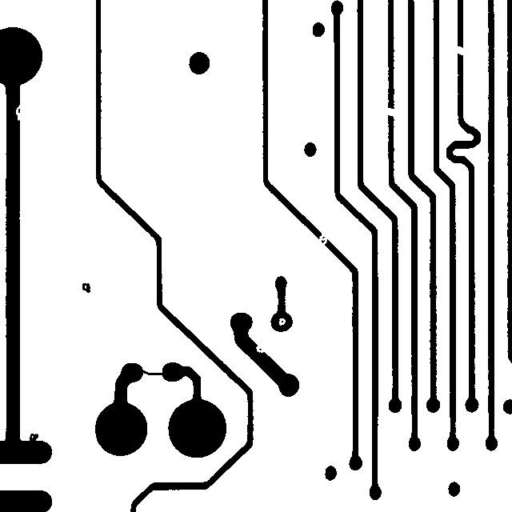copper: (74, 275, 98, 300)
mousebite: (248, 330, 273, 360), (8, 98, 31, 128)
open: (310, 222, 337, 256), (374, 100, 405, 124), (446, 38, 473, 62)
pin-hole: (271, 310, 293, 333)
short: (131, 361, 179, 382)
spur: (21, 426, 46, 454)
